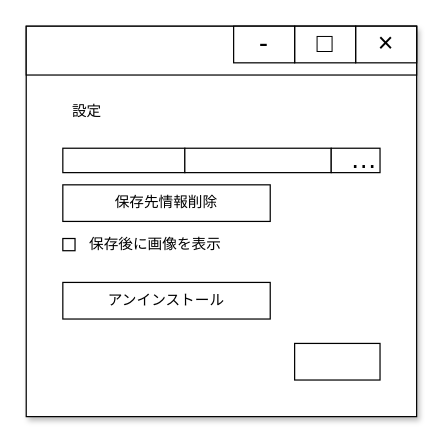
The diagram is 445 pixels wide and 447 high, and some of its shapes have lost their labels. Here are the shapes that lost their labels. From the top down, the centre of each, then its label:
(123,160): 画像保存先：
(336,361): OK
